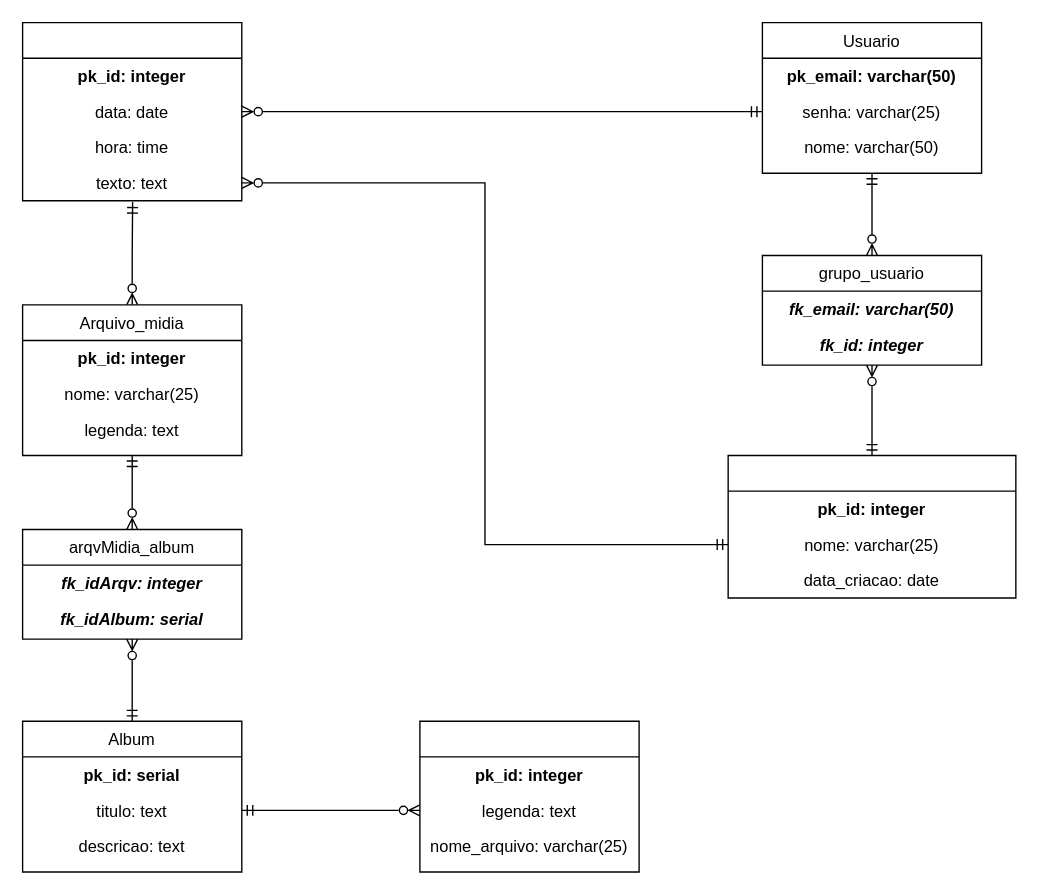
This 1038x895 diagram has some shape labels left out. Here are the shapes that lost their labels. From the top down, the box of each, then its label:
(21, 21, 242, 201): Publicacao
(727, 454, 1016, 598): Grupo
(419, 720, 639, 872): Foto
